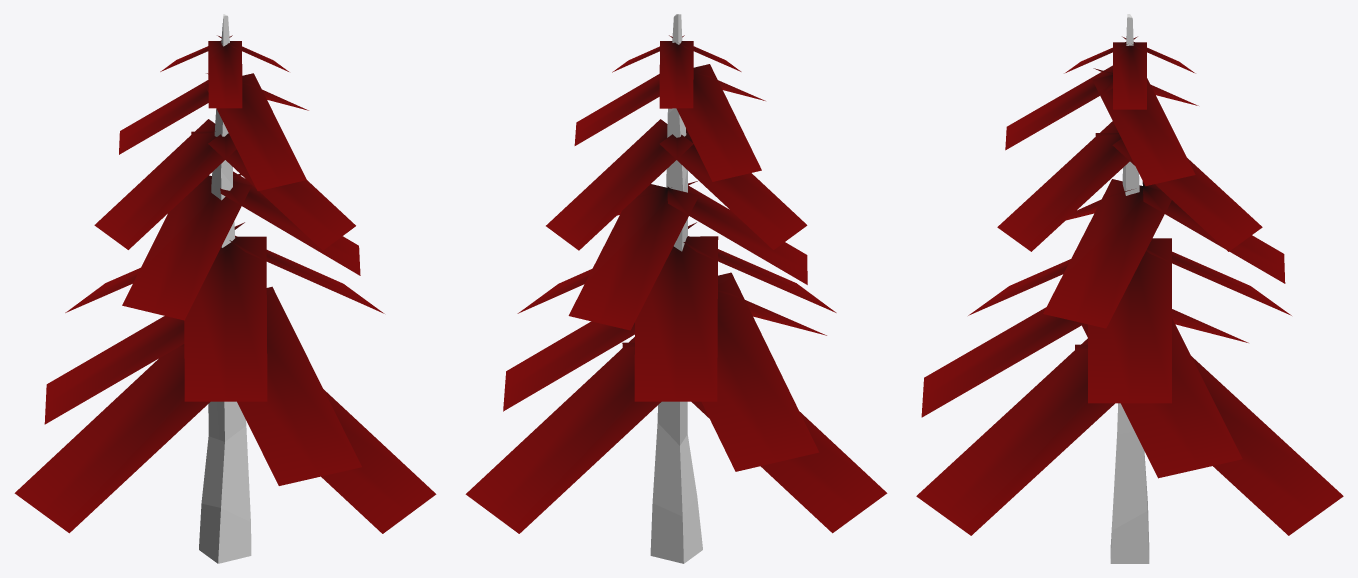
File: PineTree02.fbx
3 views of the same model, side by side, from view 1: azimuth 30°, elevation 25°; view 2: azimuth 150°, elevation 25°; view 3: azimuth 270°, elevation 25° (orthographic).
Parts seen in each view (by area): view 1: LEAF, TRUNK; view 2: LEAF, TRUNK; view 3: LEAF, TRUNK.
Boxes of the visible parts, <box> form: LEAF: <box>14,35,436,533</box>; TRUNK: <box>199,14,251,563</box>; LEAF: <box>465,35,887,533</box>; TRUNK: <box>650,14,702,563</box>; LEAF: <box>916,36,1343,535</box>; TRUNK: <box>1110,14,1149,563</box>.
Size of the model in its own units: 2.76 by 4.19 by 3.
